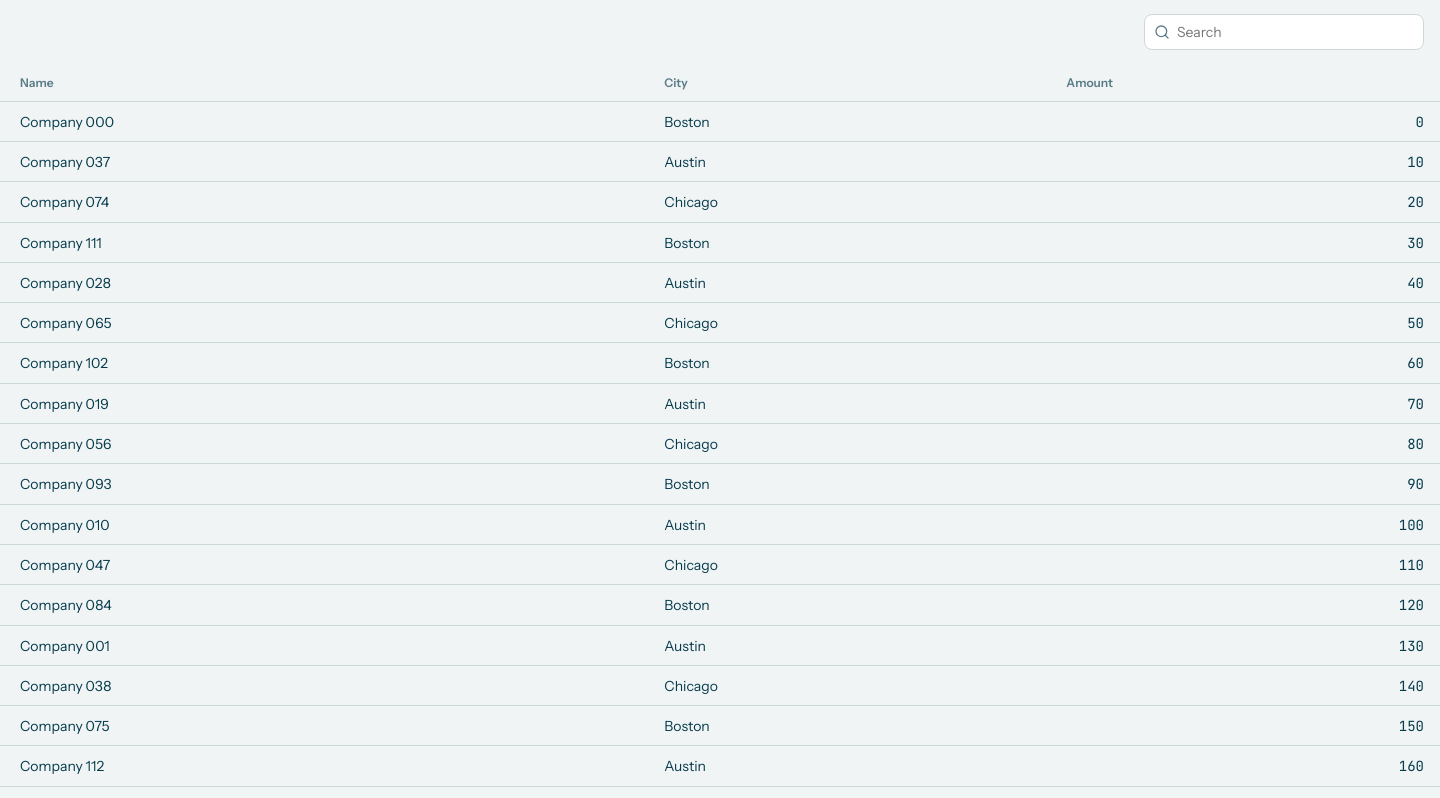
Scenario: DataTable › searches across the shown text columns, ignoring case
The width and height of the screenshot is (1440, 798).
Step 1. Type "AUSTIN" into the search field named "Search Companies" → (1284, 32), box [1144,14,1424,50]
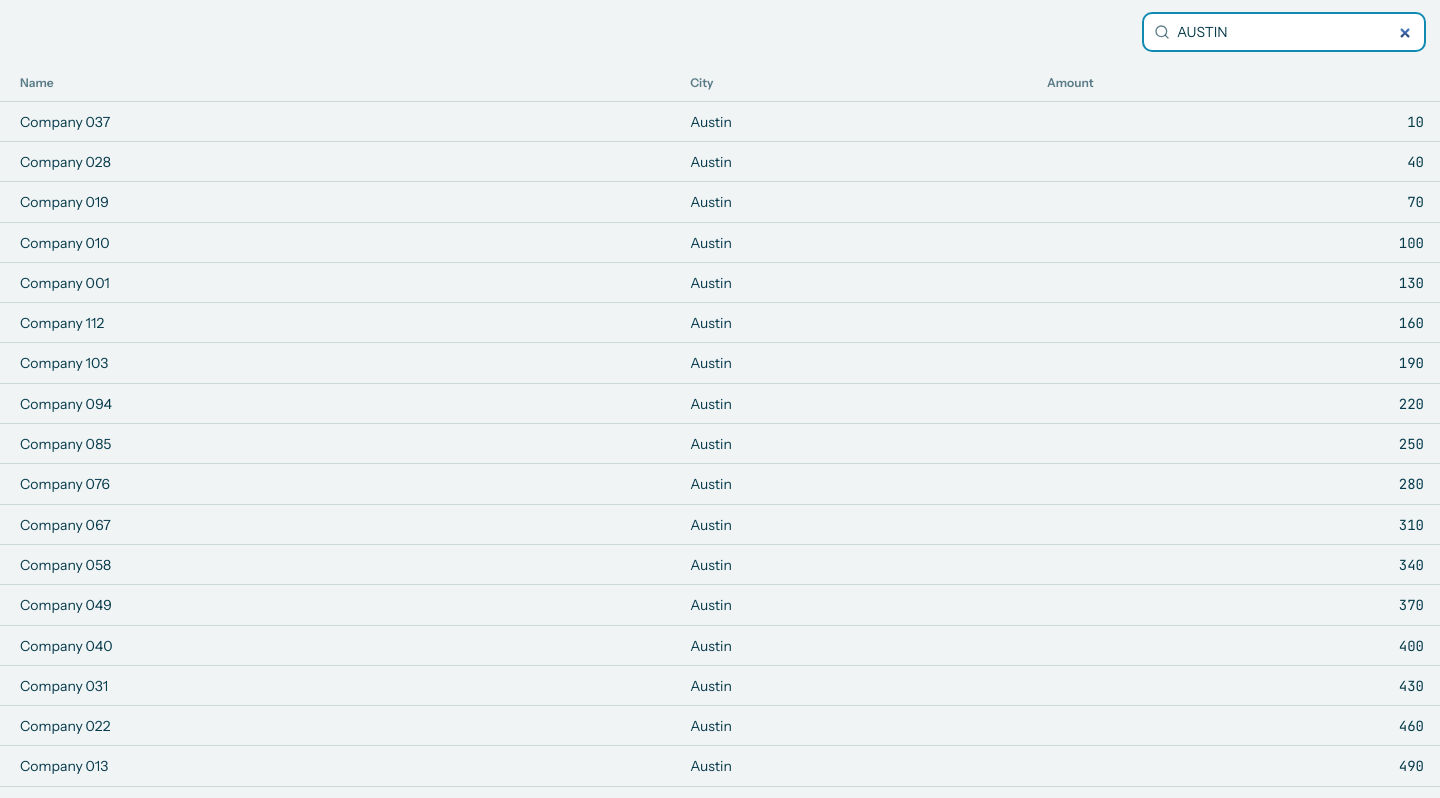
Step 2. Replace the text in the search field with "company 007" → (1284, 32), box [1144,14,1424,50]
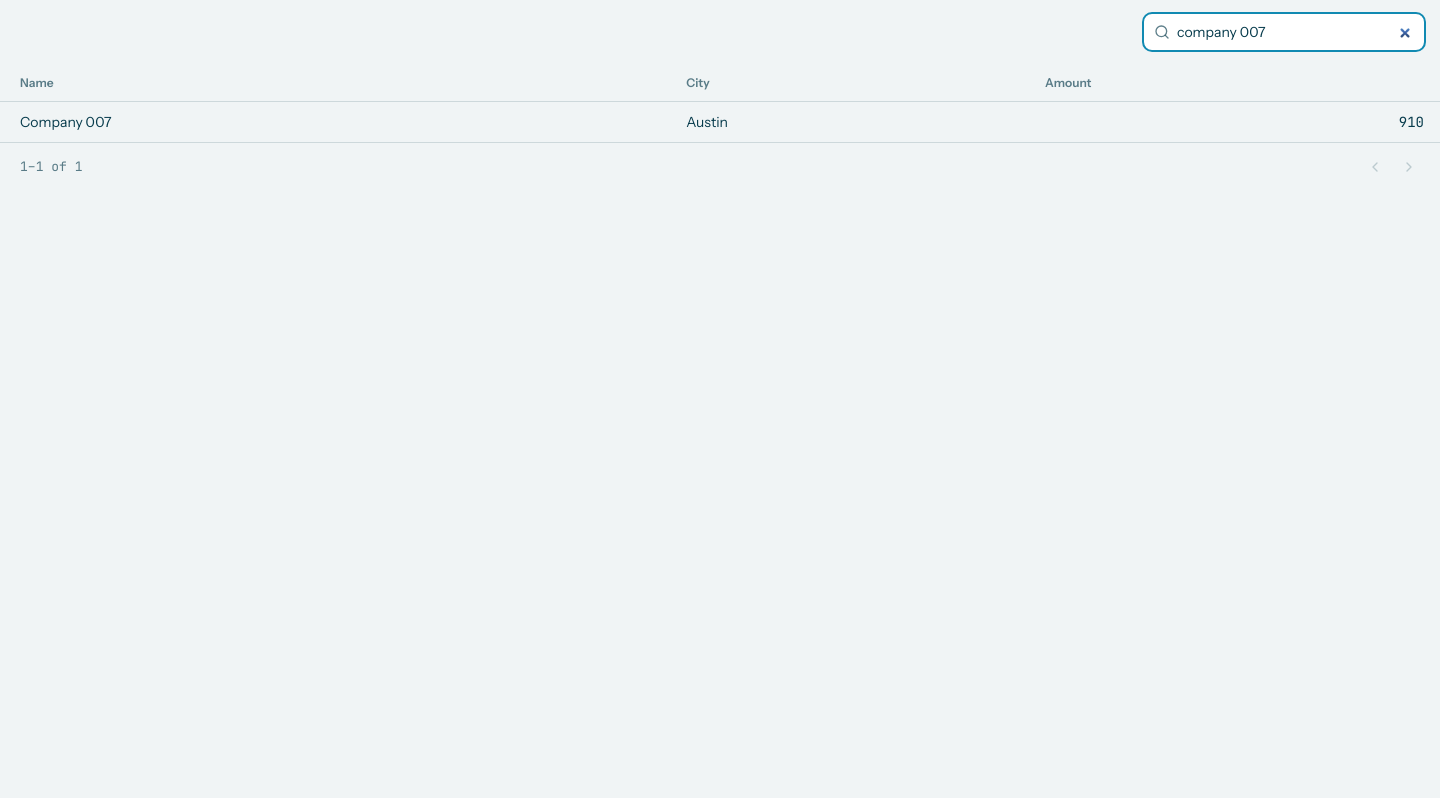
Step 3. Replace the text in the search field with "nowhere" → (1284, 32), box [1144,14,1424,50]
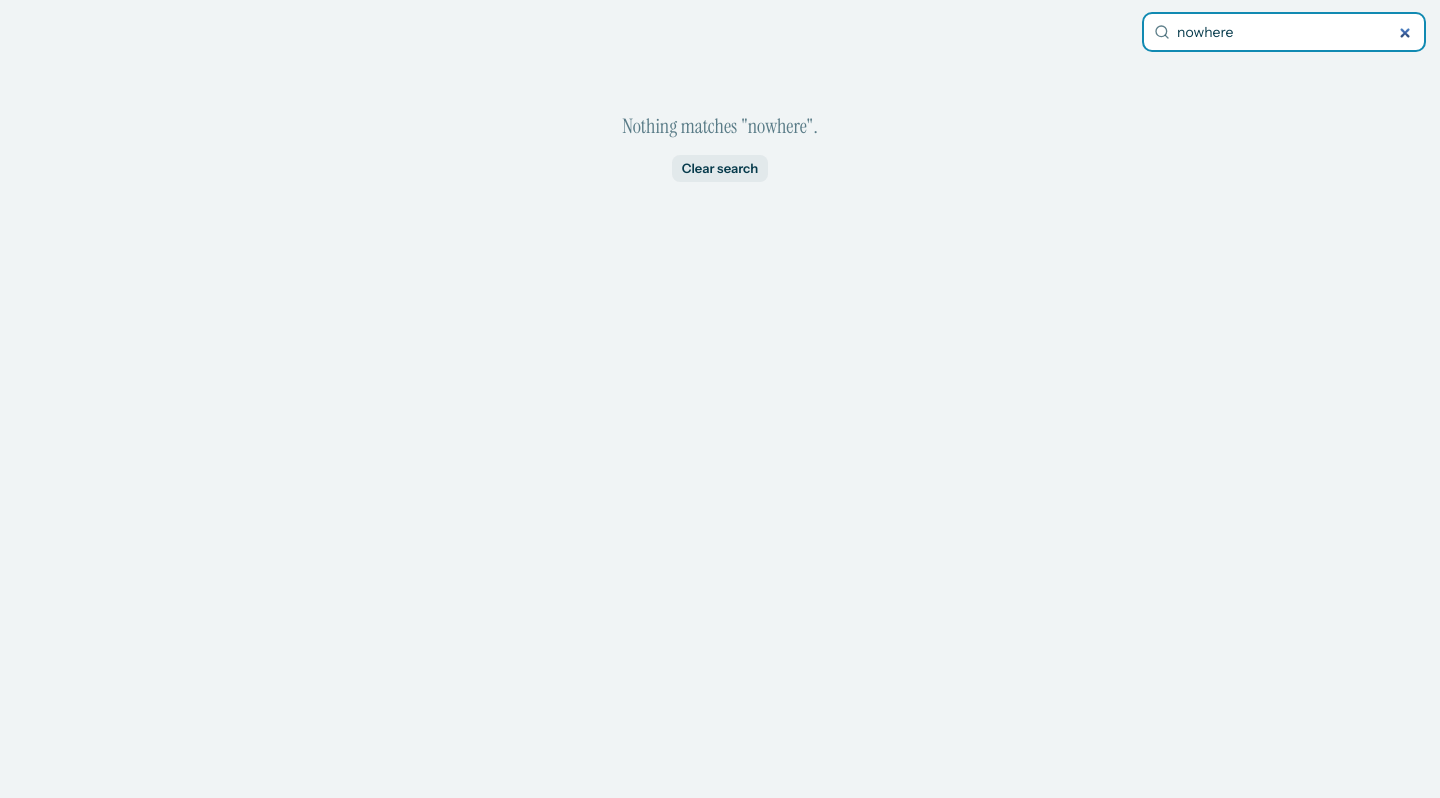
Check: the text "Nothing matches \"nowhere\"." is shown, box [622,112,818,141]
